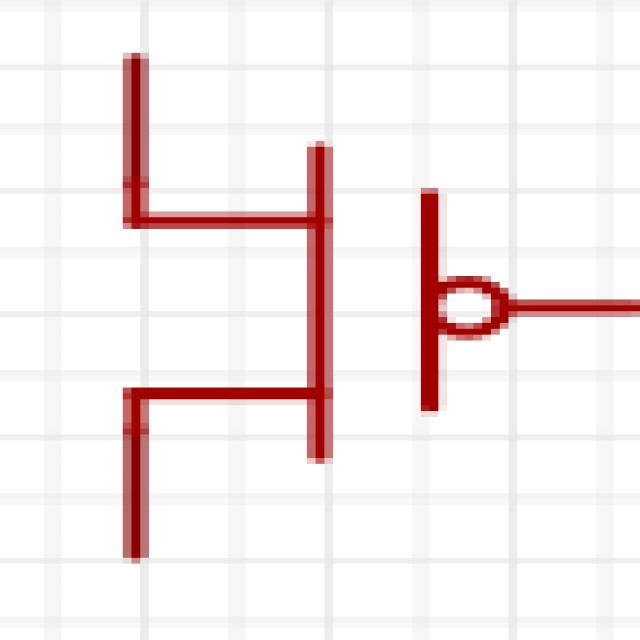pmos: (77, 44, 640, 566)
